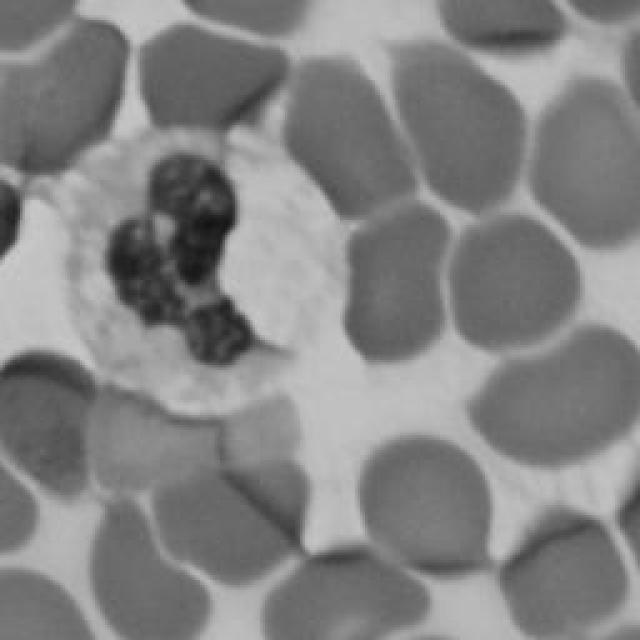RBC: (465, 320, 640, 468), (389, 36, 526, 216), (284, 50, 421, 220), (0, 16, 130, 179), (356, 434, 494, 581), (527, 79, 640, 252), (155, 462, 310, 588), (448, 219, 584, 356), (92, 497, 215, 640), (499, 510, 631, 640), (345, 198, 447, 364), (139, 28, 281, 142), (259, 545, 429, 640), (2, 350, 96, 498), (431, 4, 569, 56), (0, 567, 95, 640), (179, 0, 316, 38), (0, 1, 88, 54), (0, 464, 38, 556), (570, 0, 638, 28), (622, 37, 640, 105)
WBC: (61, 126, 349, 412)
